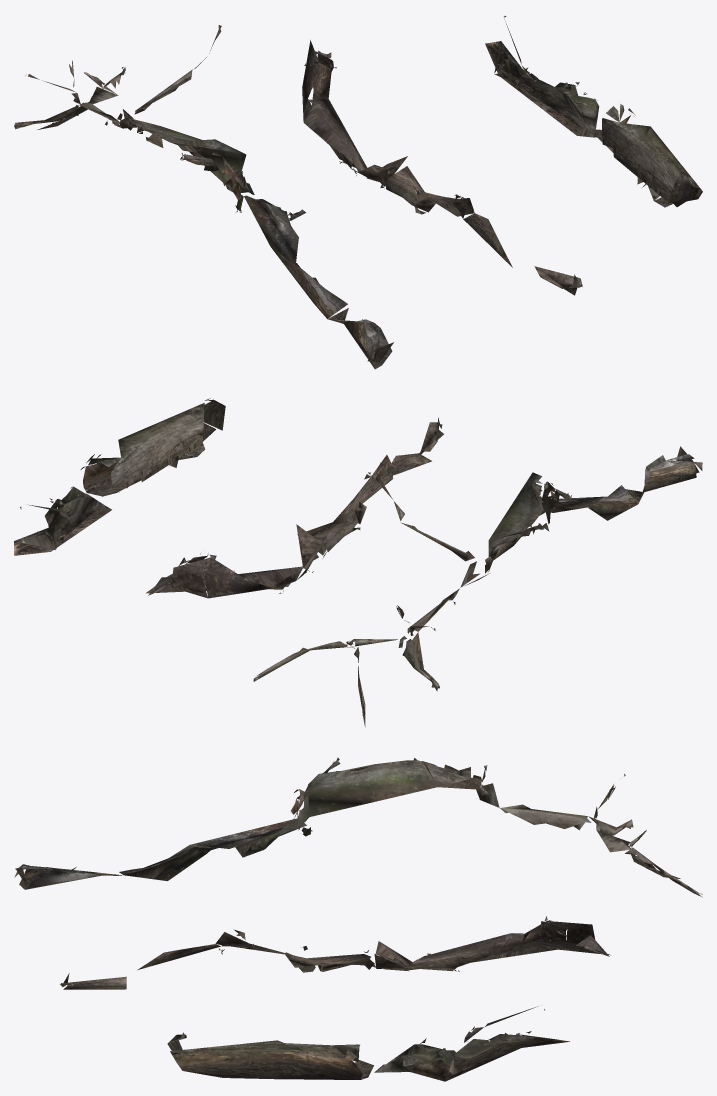
The model's file is branches_lo.glb.
3 views of the same model, one above another, from view 1: azimuth 30°, elevation 25°; view 2: azimuth 150°, elevation 25°; view 3: azimuth 270°, elevation 25° (orthographic). The views are drawn at different scales.
Visible parts, largest first — view 1: dry_branches_medium_01_a, dry_branches_medium_01_c, dry_branches_medium_01_b; view 2: dry_branches_medium_01_c, dry_branches_medium_01_a, dry_branches_medium_01_b; view 3: dry_branches_medium_01_a, dry_branches_medium_01_c, dry_branches_medium_01_b.
Boxes of the visible parts, x1,y1,x2,y2 form: dry_branches_medium_01_a: (14,25,393,369); dry_branches_medium_01_c: (485,16,702,207); dry_branches_medium_01_b: (302,40,582,295); dry_branches_medium_01_c: (14,398,225,555); dry_branches_medium_01_a: (253,446,702,727); dry_branches_medium_01_b: (146,417,443,598); dry_branches_medium_01_a: (14,757,702,897); dry_branches_medium_01_c: (167,1006,569,1081); dry_branches_medium_01_b: (60,916,610,989).
Size of the model in its own units: 1.06 by 0.3269 by 1.3.
Materials: 1 (1 with a texture image).
